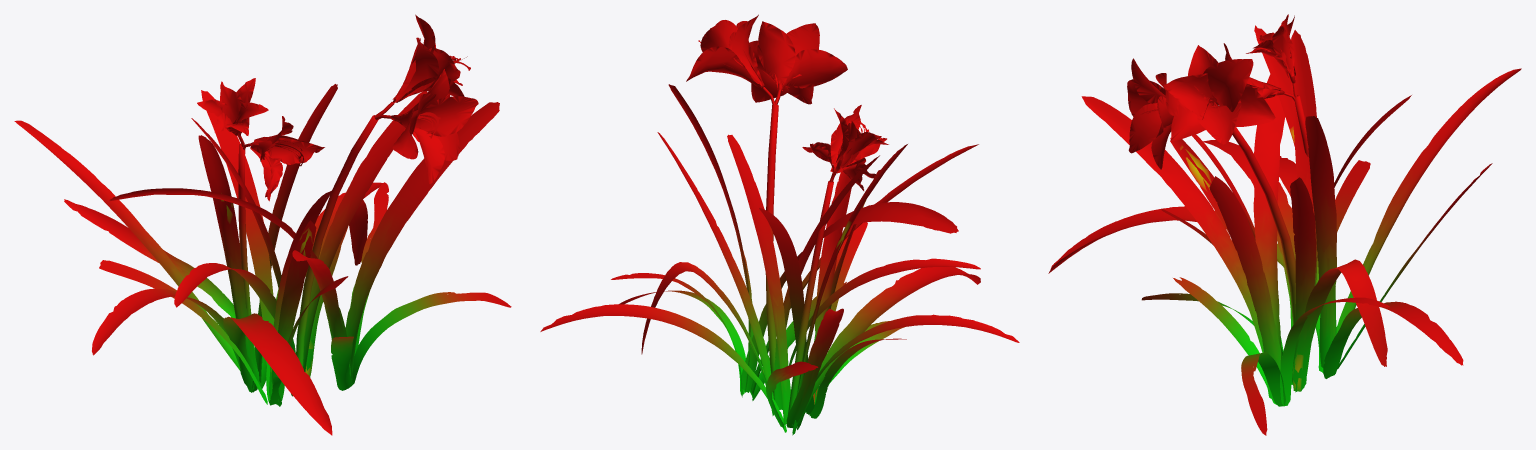
File: SM_Amaryllis_03.FBX
The picture shows the model from 3 angles, left to right: view 1: azimuth 30°, elevation 25°; view 2: azimuth 150°, elevation 25°; view 3: azimuth 270°, elevation 25°; orthographic projection. The views are drawn at different scales.
Parts seen in each view (by area): view 1: SM_Amaryllis_03; view 2: SM_Amaryllis_03; view 3: SM_Amaryllis_03.
Part boxes in pixels (<box>): SM_Amaryllis_03: <box>14,14,511,435</box>; SM_Amaryllis_03: <box>540,14,1019,435</box>; SM_Amaryllis_03: <box>1048,14,1521,435</box>.
Size of the model in its own units: 83.74 by 79.3 by 70.29.
